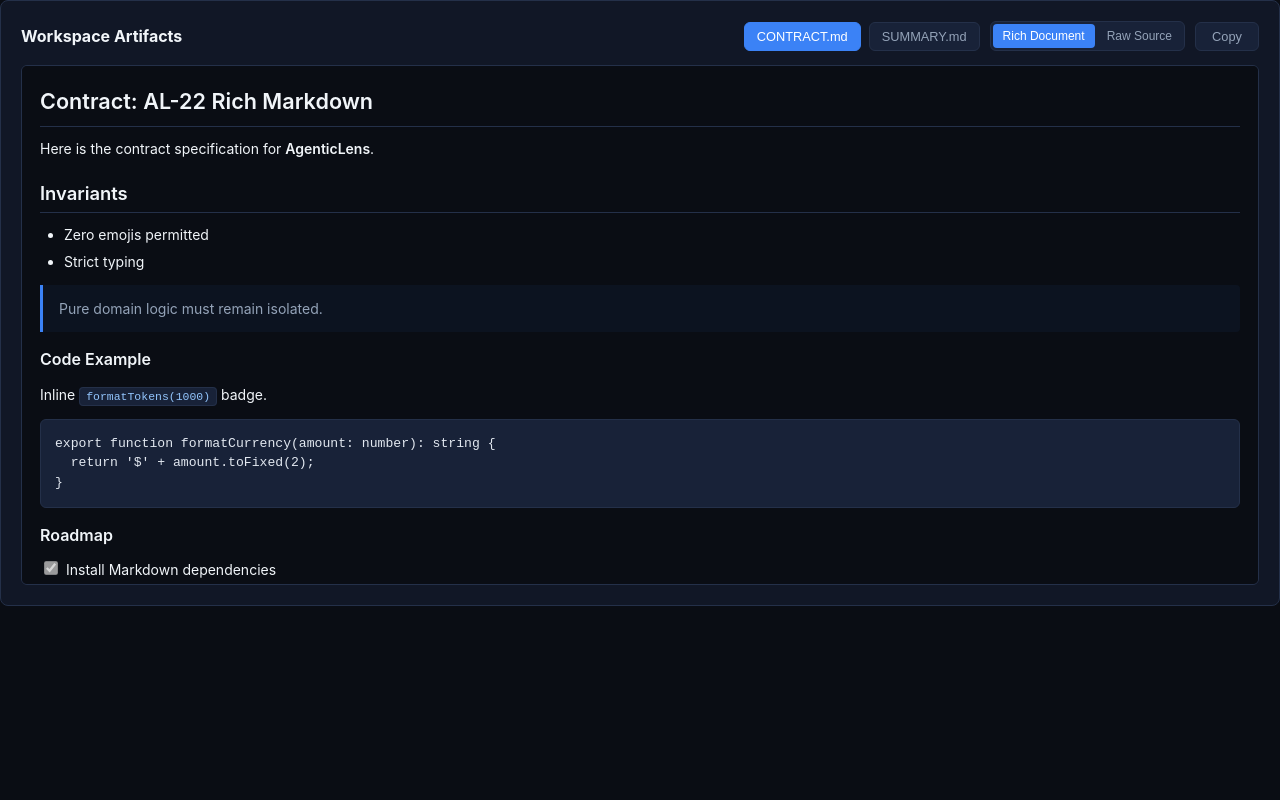
Test: ArtifactViewer Component › switches between CONTRACT.md and SUMMARY.md documents
The width and height of the screenshot is (1280, 800).
Expected: the heading "Contract: AL-22 Rich Markdown" is shown, 40,84 -> 1240,127
Expected: the text "Summary: AL-22 Delivery" is not shown
Click the button "SUMMARY.md" at (924, 36), box 869,22 -> 980,50
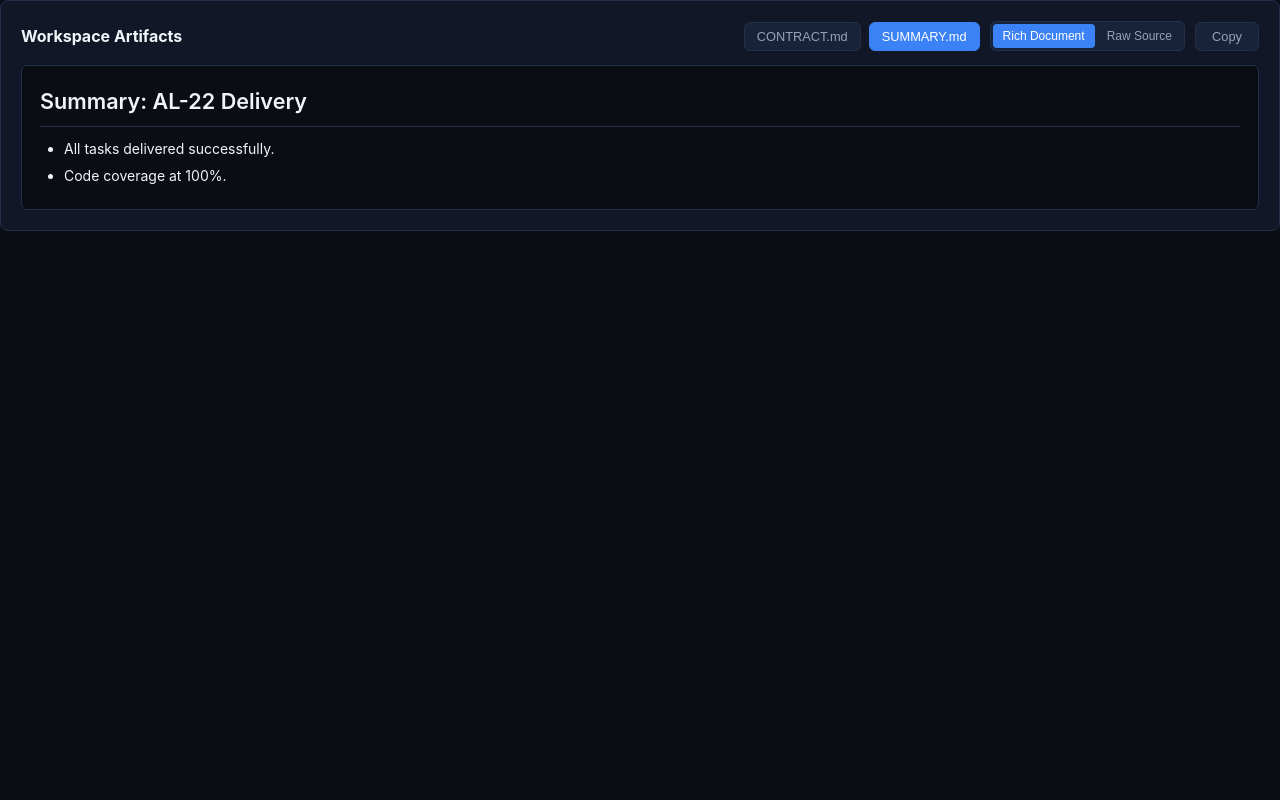
Now the heading "Summary: AL-22 Delivery" is shown, box 40,84 -> 1240,127
Now the heading "Contract: AL-22 Rich Markdown" is gone
Click the button "CONTRACT.md" at (802, 36), box 744,22 -> 861,50
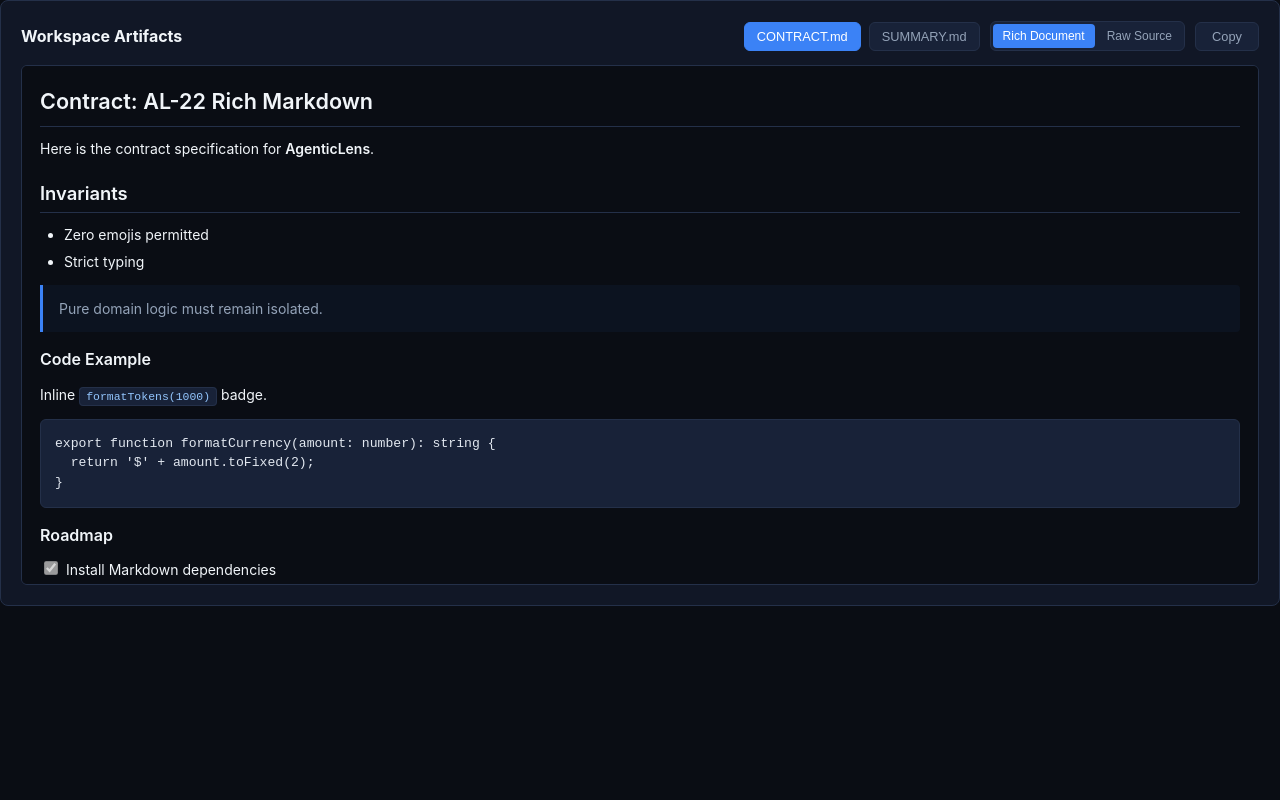
Now the heading "Contract: AL-22 Rich Markdown" is shown, box 40,84 -> 1240,127
